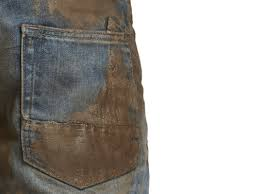earth: (39, 121, 132, 173), (105, 65, 127, 122), (60, 1, 114, 20), (88, 102, 104, 121)
